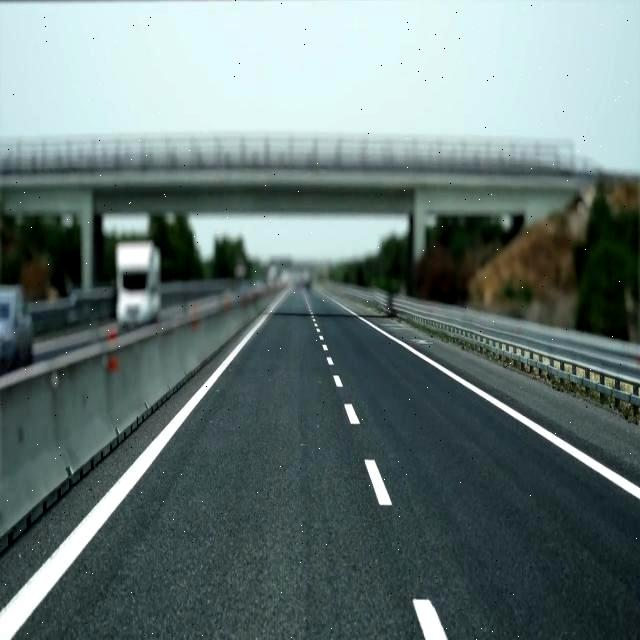lane: (0, 290, 289, 639), (328, 297, 640, 499), (412, 599, 448, 639), (365, 459, 391, 506), (334, 375, 342, 387)
road: (13, 290, 639, 639), (0, 340, 237, 606), (409, 341, 639, 484)
